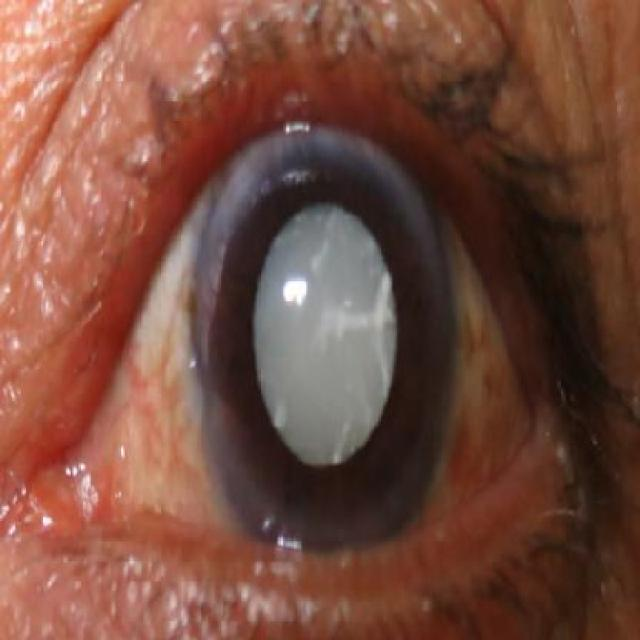Cataract: (192, 129, 458, 564)
